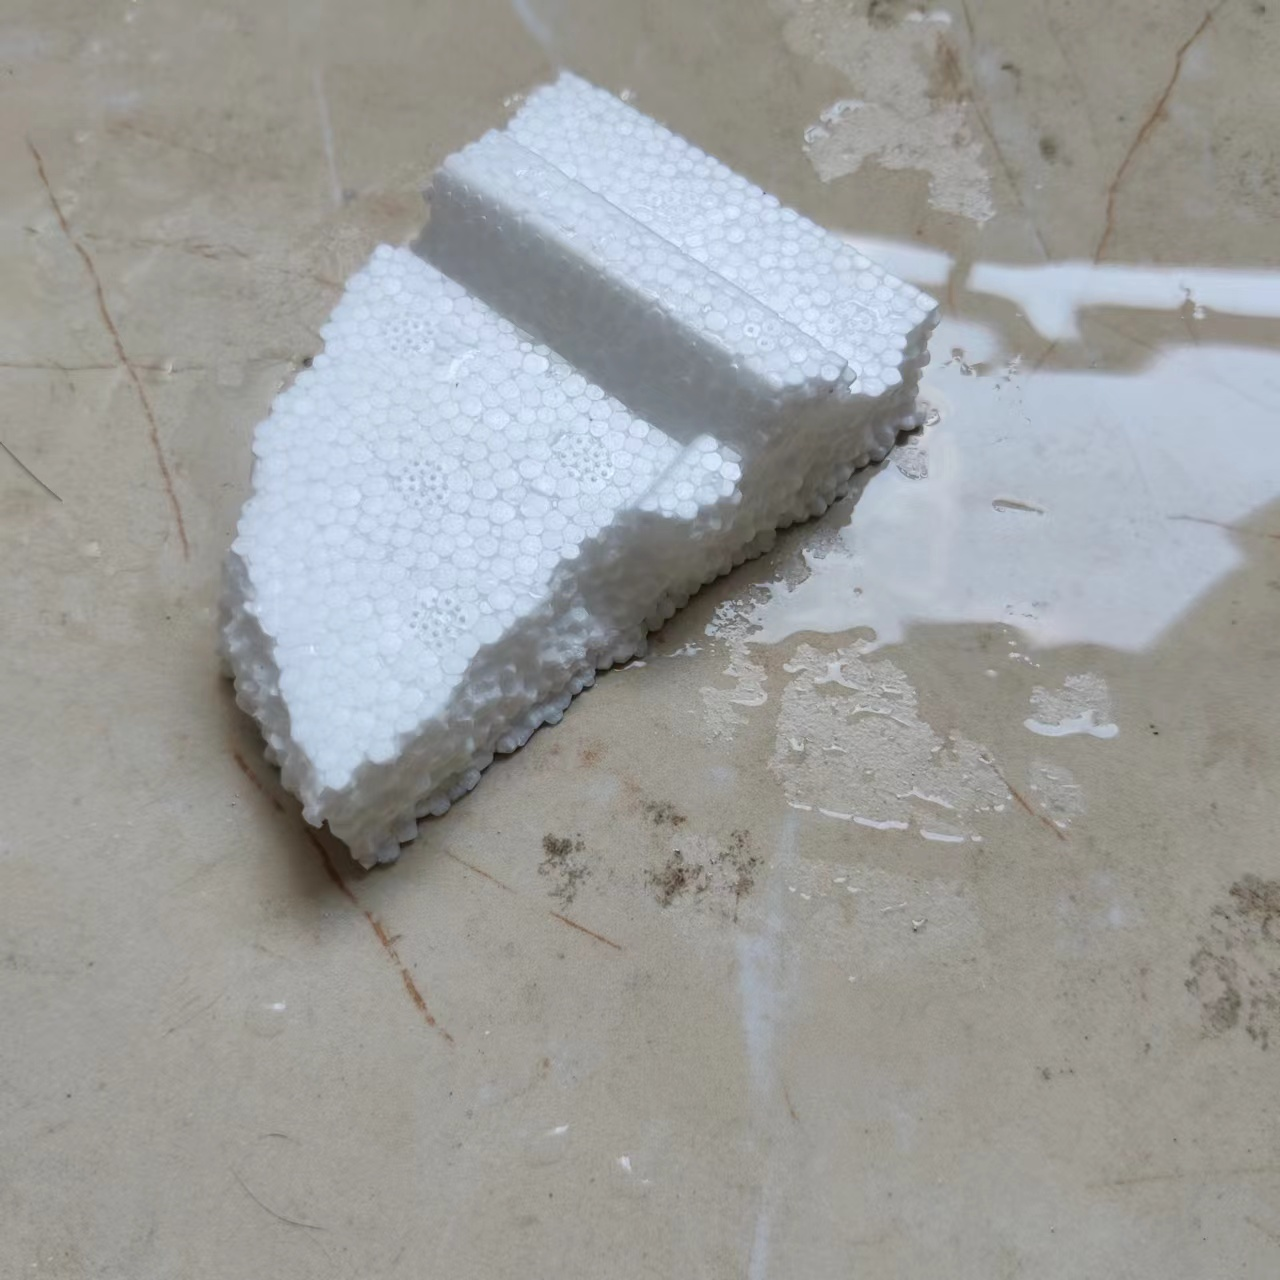5/可回收垃圾/泡沫: (222, 70, 942, 873)
